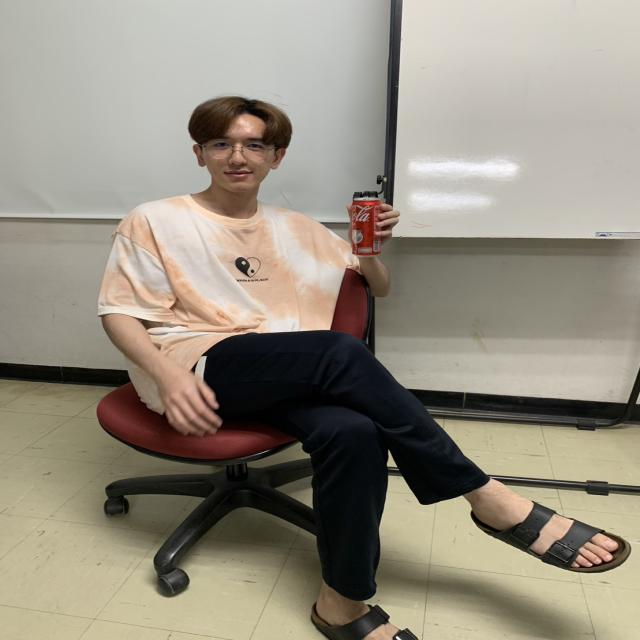can: (351, 196, 381, 258)
